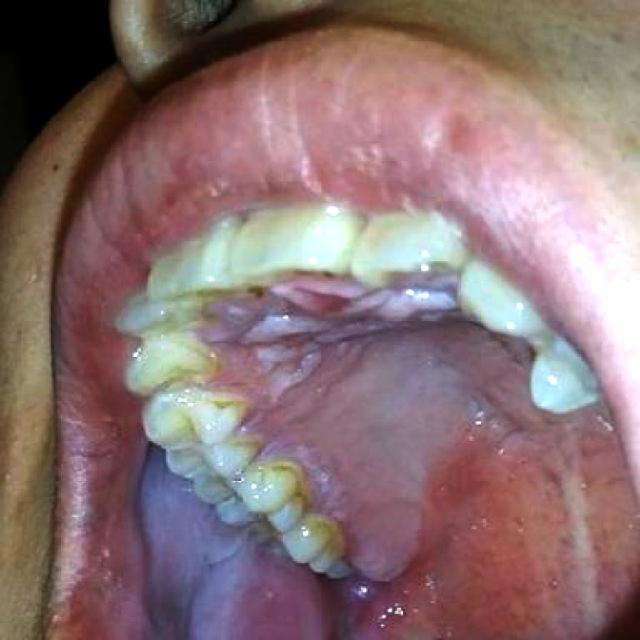Plaque: (273, 456, 313, 511), (205, 387, 250, 431), (320, 514, 350, 557), (246, 431, 266, 461)
